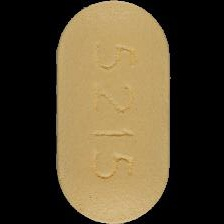0093-5215: (0, 0, 224, 224)
